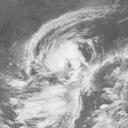cyclone: (26, 34, 84, 85)
